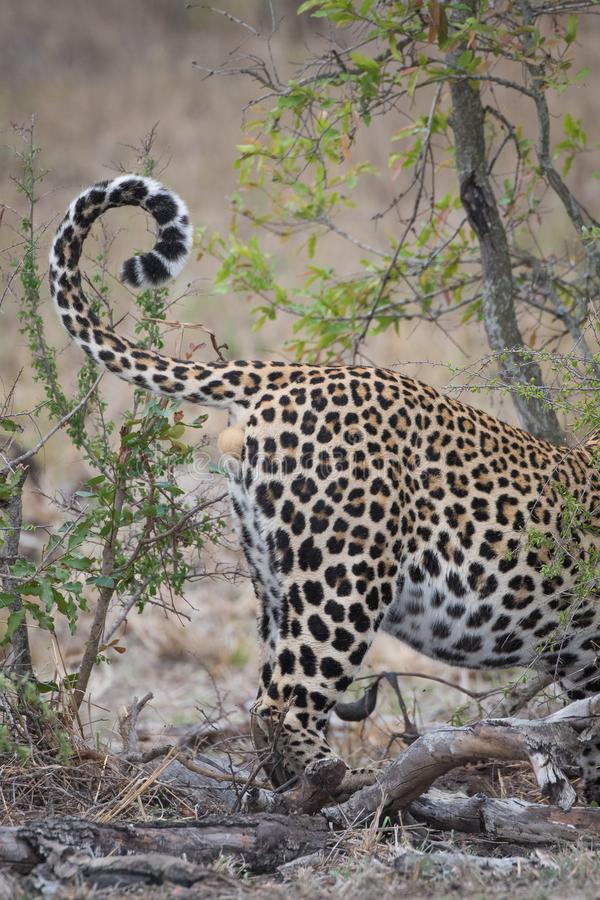leopard: (49, 180, 600, 833)
